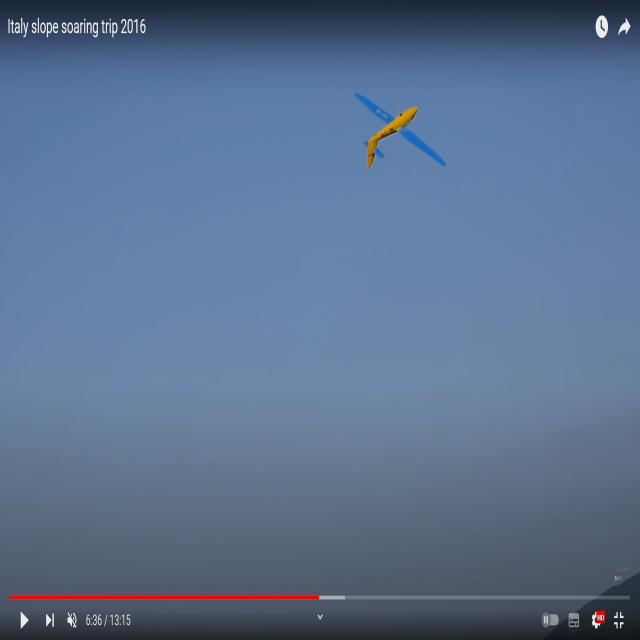iha: (386, 127, 415, 139)
